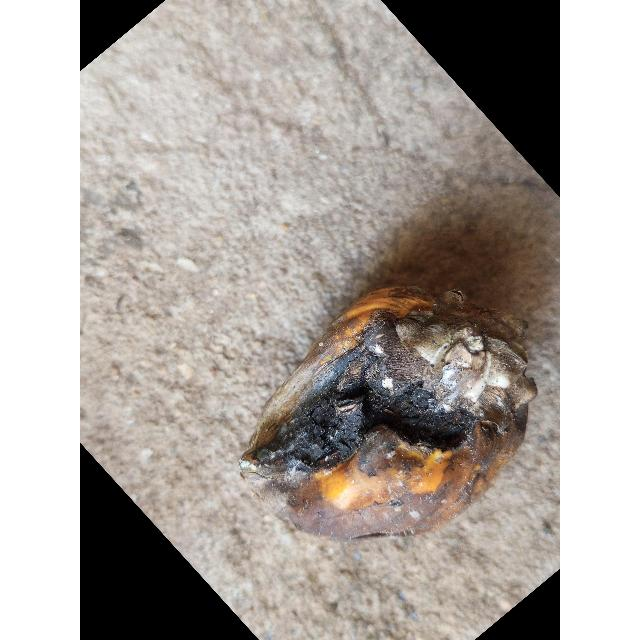damaged: (242, 296, 538, 543)
